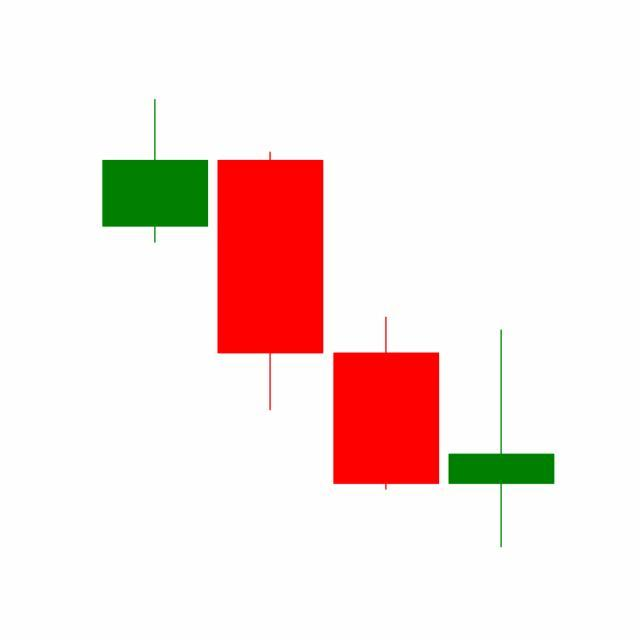Spinning Top: (444, 327, 560, 550)
